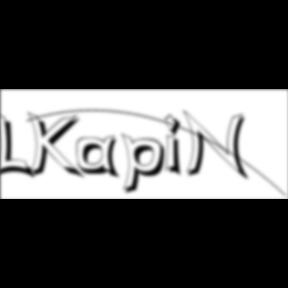K: (28, 110, 86, 182)
L: (1, 110, 37, 182)
N: (183, 109, 253, 183)
a: (77, 135, 125, 182)
i: (165, 112, 189, 180)
p: (122, 132, 172, 198)
